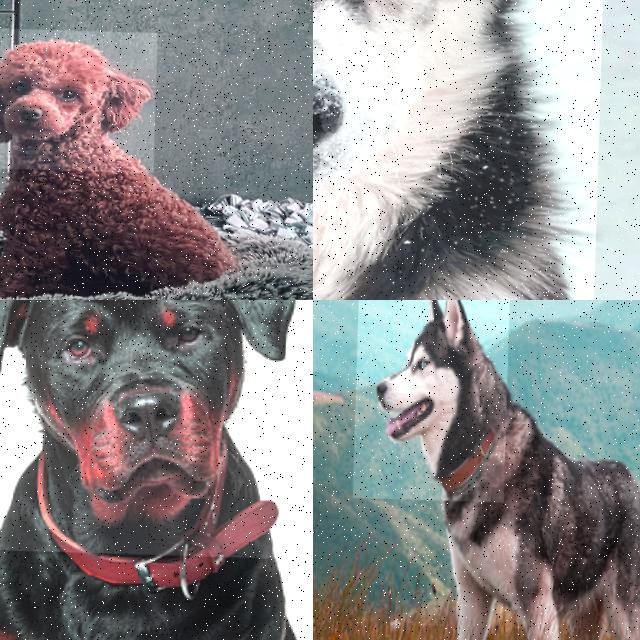husky: (313, 0, 622, 300), (344, 300, 514, 506)
poodle: (0, 25, 158, 178)
rottweiler: (0, 300, 313, 567)
